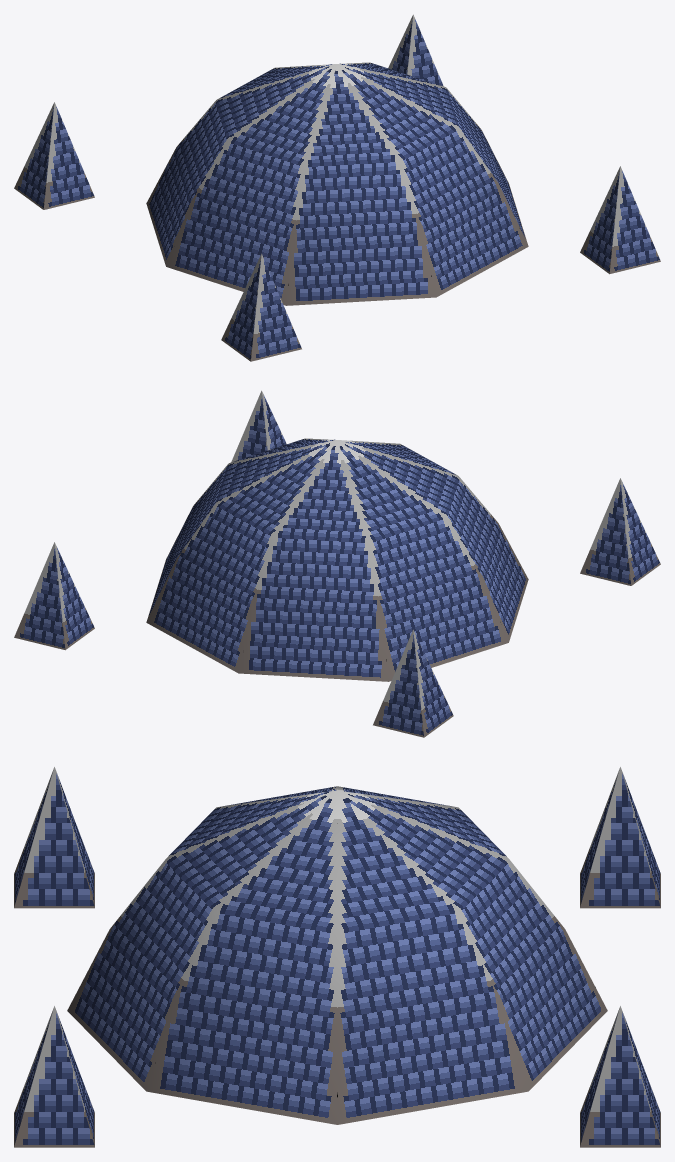
Rendered from dome.FBX.
3 views of the same model, one above another, from view 1: azimuth 30°, elevation 25°; view 2: azimuth 150°, elevation 25°; view 3: azimuth 270°, elevation 25° (orthographic). The views are drawn at different scales.
Visible parts, largest first — view 1: Cone001; view 2: Cone001; view 3: Cone001.
Part boxes in pixels (<box>): Cone001: <box>14,14,660,361</box>; Cone001: <box>14,390,660,737</box>; Cone001: <box>14,767,660,1147</box>.
Size of the model in its own units: 70 by 26.28 by 70.
